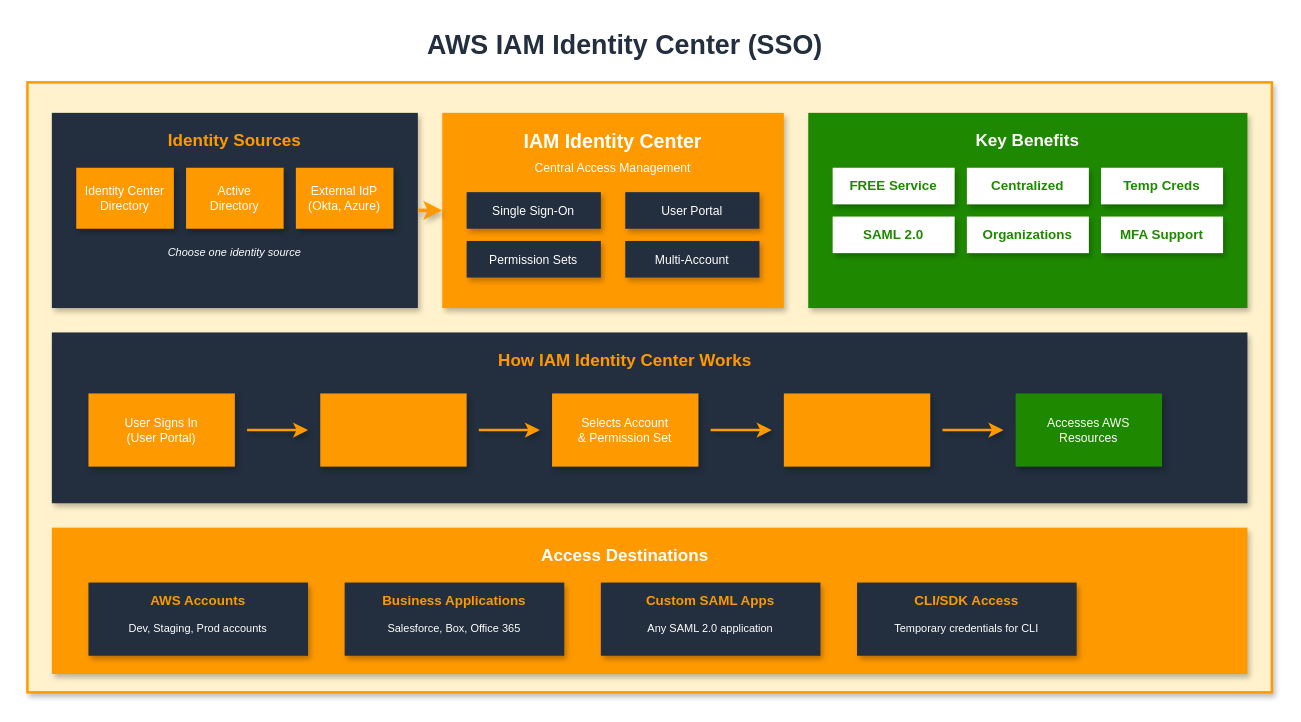
The diagram is 1301 pixels wide and 722 high, and some of its shapes have lost their labels. Here are the shapes that lost their labels. From the top down, the centre of each, then its label:
At pixel 394 431: "Sees Assigned Accounts/Apps".
At pixel 857 431: "Gets Temporary Credentials".
